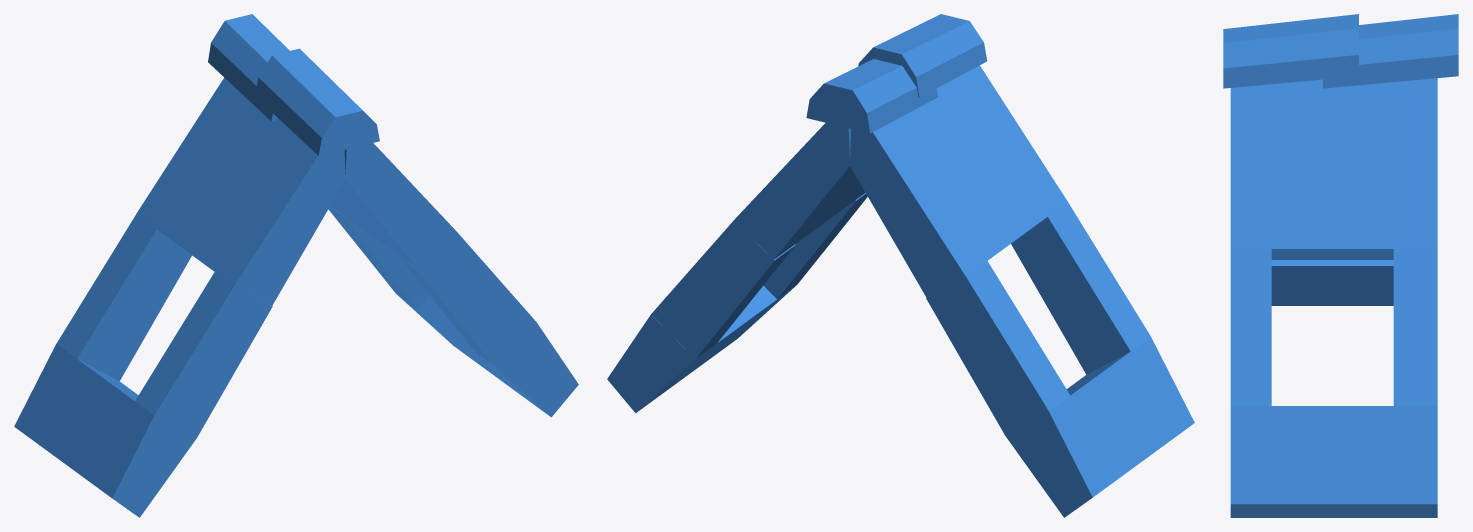
Rendered from Collision_Roof_Modular_RoundTiles_4_Dormer.fbx.
3 renders of one model, left to right at view 1: azimuth 30°, elevation 25°; view 2: azimuth 150°, elevation 25°; view 3: azimuth 270°, elevation 25°, orthographic. The views are drawn at different scales.
Visible parts, largest first — view 1: UCX_Roof_Modular_RoundTiles_4_Dormer_01; view 2: UCX_Roof_Modular_RoundTiles_4_Dormer_01; view 3: UCX_Roof_Modular_RoundTiles_4_Dormer_01.
Boxes of the visible parts, bbox=[...] form: UCX_Roof_Modular_RoundTiles_4_Dormer_01: bbox=[14, 14, 578, 517]; UCX_Roof_Modular_RoundTiles_4_Dormer_01: bbox=[607, 14, 1194, 517]; UCX_Roof_Modular_RoundTiles_4_Dormer_01: bbox=[1223, 14, 1458, 517].
Bounding box in the file's own units: 545 × 414 × 226.
